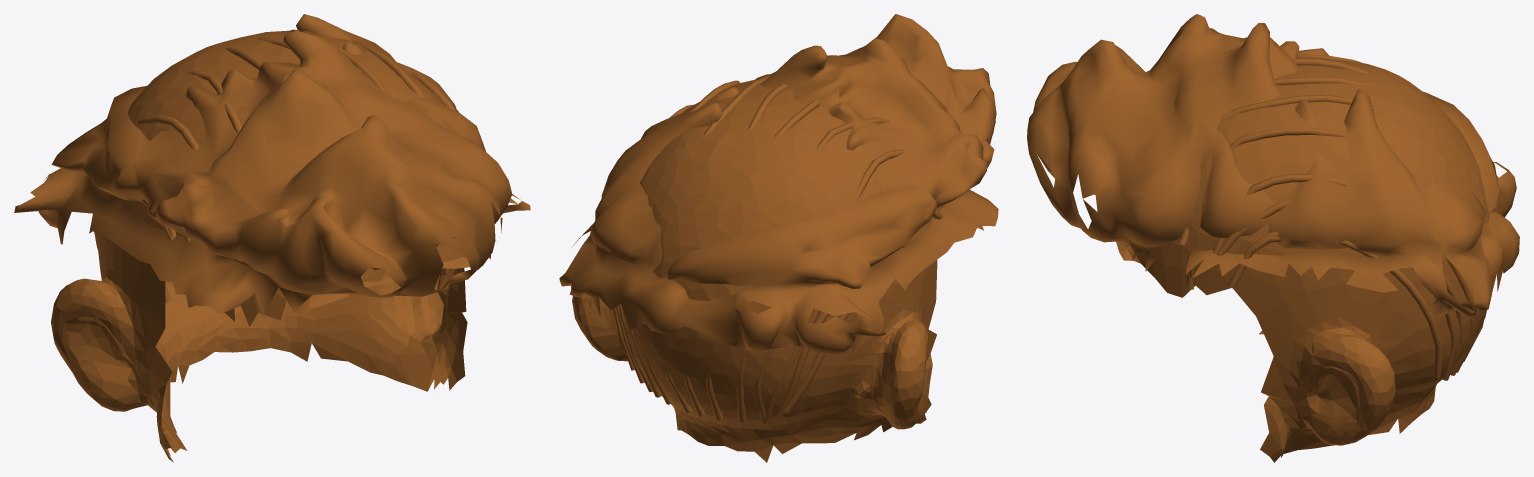
The model's file is quiff.glb.
3 renders of one model, left to right at view 1: azimuth 30°, elevation 25°; view 2: azimuth 150°, elevation 25°; view 3: azimuth 270°, elevation 25°, orthographic. The views are drawn at different scales.
Parts seen in each view (by area): view 1: Hair, HairScalp, HairPulledRootStrands; view 2: Hair, HairScalp, HairPulledRootStrands; view 3: Hair, HairScalp, HairPulledRootStrands.
Boxes of the visible parts, x1,y1,x2,y2 form: Hair: (14, 14, 530, 316); HairScalp: (51, 30, 490, 462); HairPulledRootStrands: (94, 29, 455, 302); Hair: (559, 14, 998, 356); HairScalp: (572, 79, 941, 462); HairPulledRootStrands: (613, 76, 944, 423); Hair: (1027, 14, 1519, 320); HairScalp: (1116, 57, 1492, 462); HairPulledRootStrands: (1178, 53, 1486, 380).
Bounding box in the file's own units: 0.459 × 0.4473 × 0.5339.
